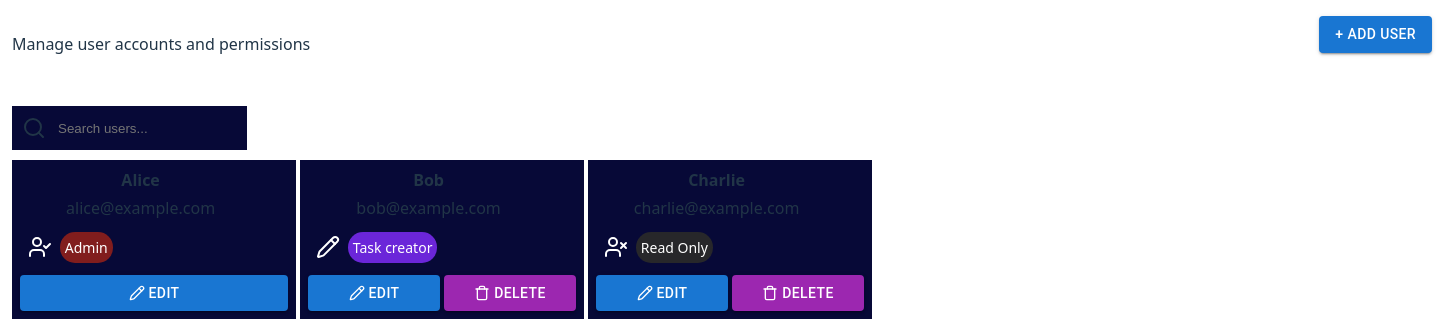
UserManagement Component › filters users when typing in search
Type "bob" into the field with placeholder "Search users...". click: (146, 128)
box: [56,120,237,136]
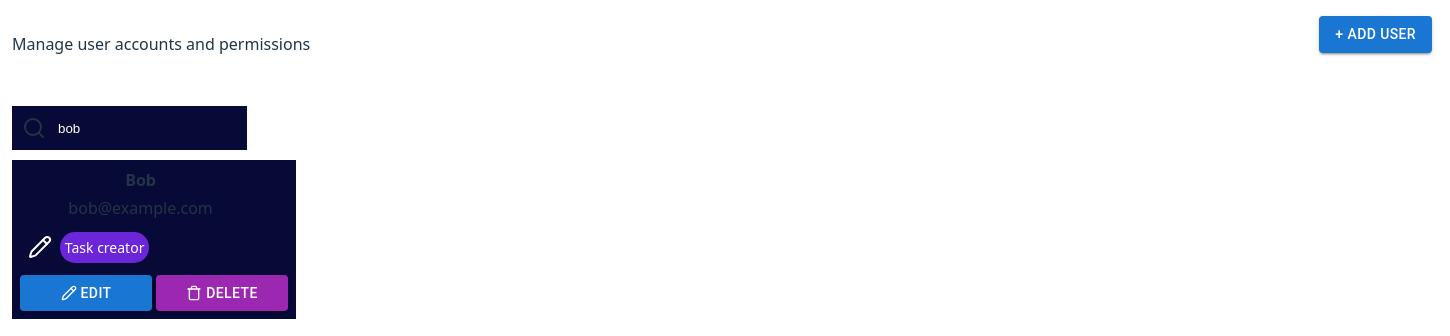
Expected: the heading "Bob" is shown, [125,169,156,191]
Now the heading "Alice" is gone
